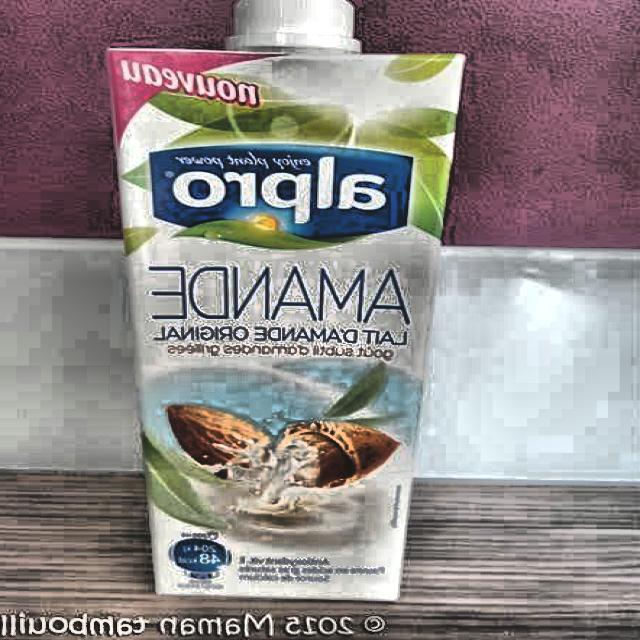cardboard: (107, 33, 468, 600)
